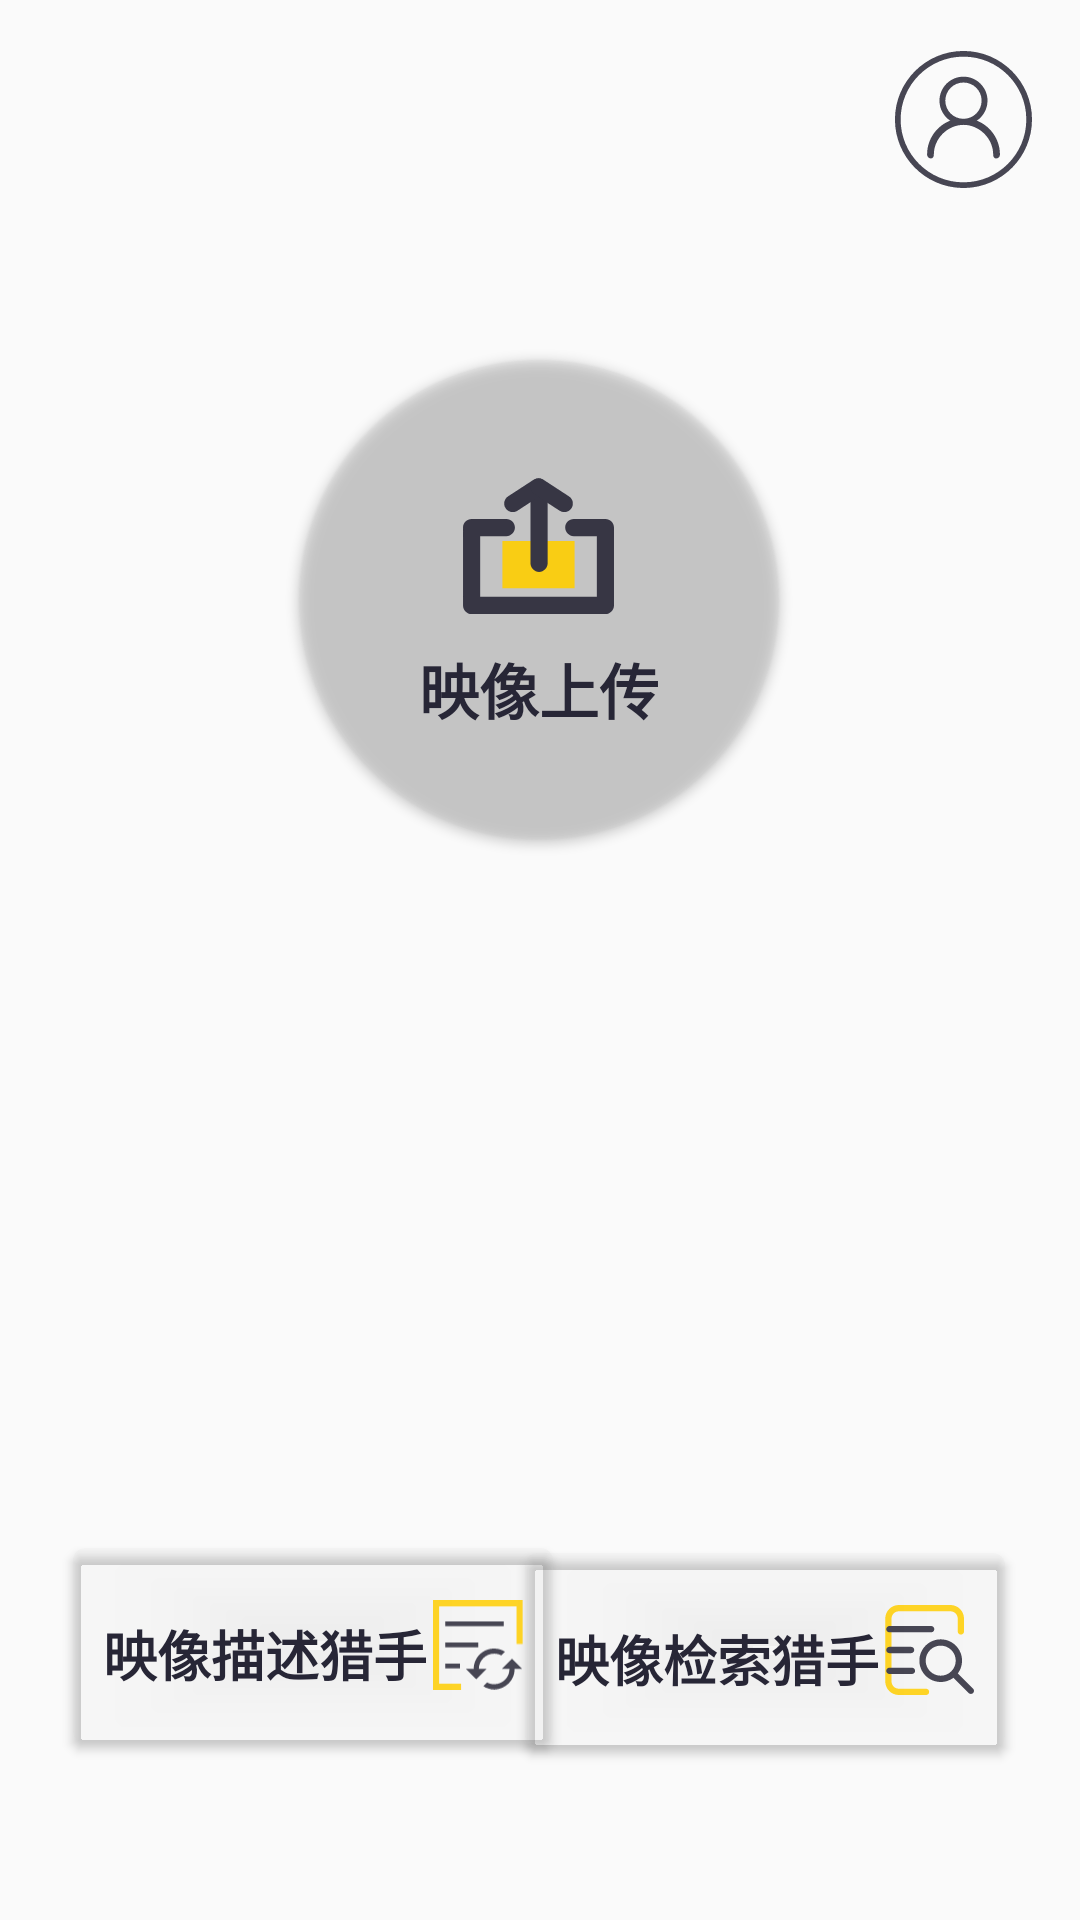

Screen size 1080*1920. Icon name, then its box in pixels as (x1, y1, x2, y2):
generate: (433, 1600, 523, 1690)
search: (885, 1605, 974, 1695)
user: (895, 51, 1032, 188)
